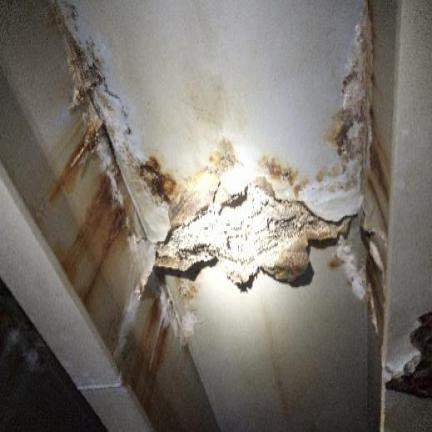karat: (63, 177, 115, 278)
